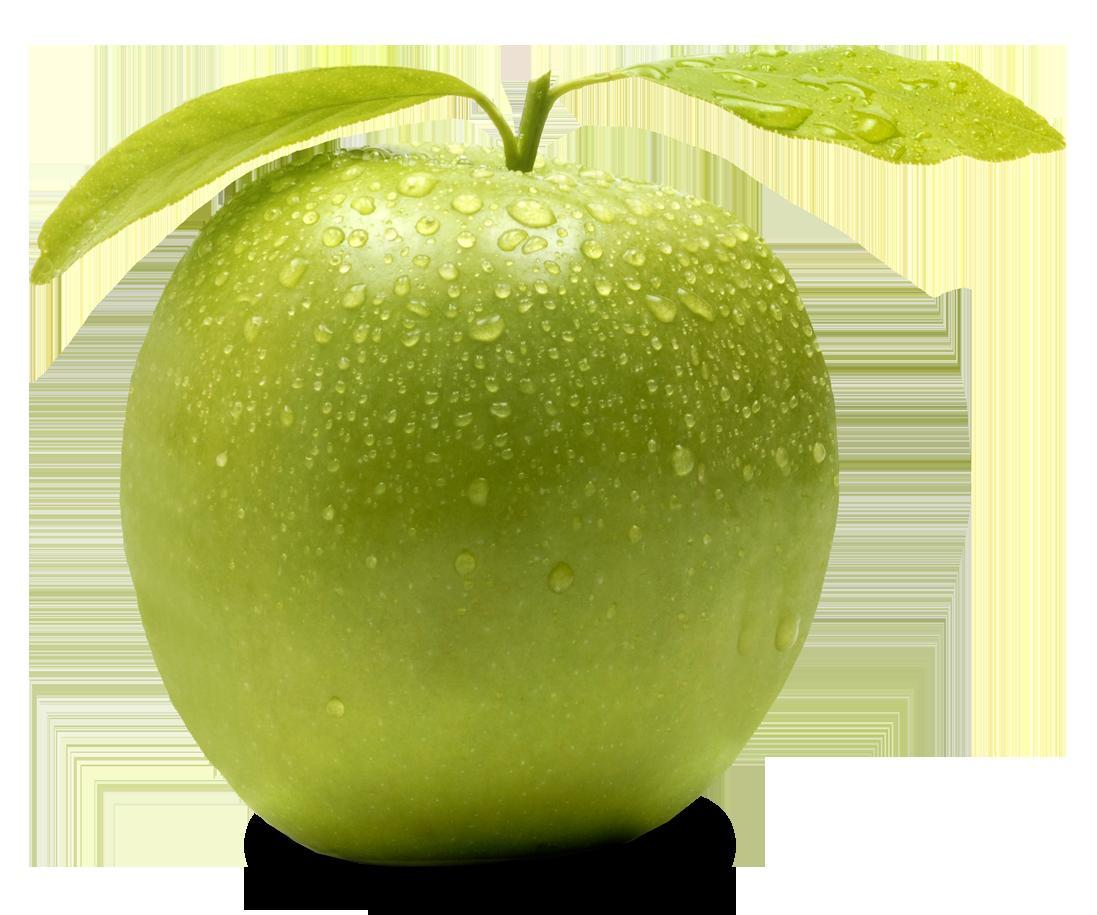apple: (119, 143, 841, 864)
